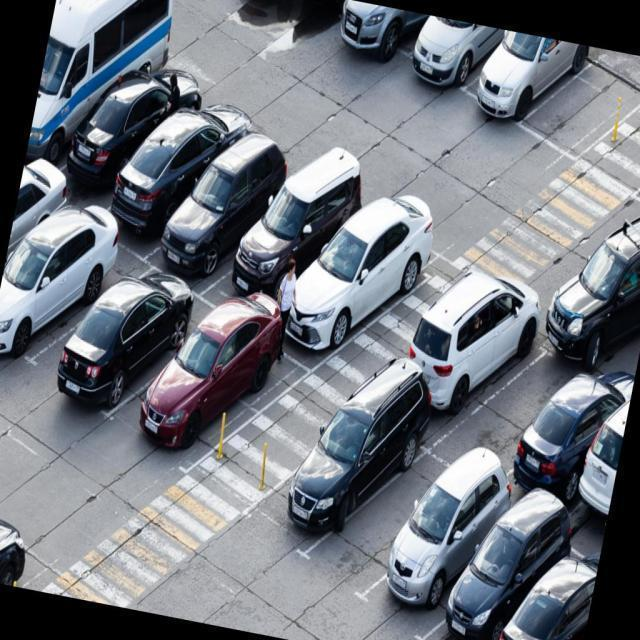space-empty: (311, 427, 446, 585), (447, 342, 582, 475), (525, 39, 634, 173)
space-occupied: (121, 298, 286, 462), (43, 250, 201, 420), (258, 396, 418, 557), (366, 469, 499, 623), (0, 215, 122, 374), (213, 179, 353, 315), (105, 111, 236, 255), (25, 20, 141, 182), (155, 143, 281, 291), (276, 227, 420, 356), (509, 355, 626, 501), (401, 297, 541, 417), (433, 515, 562, 640), (58, 78, 182, 203), (465, 26, 587, 146), (407, 13, 525, 89), (348, 1, 460, 71), (575, 395, 630, 532), (0, 177, 53, 318), (491, 576, 594, 640)
